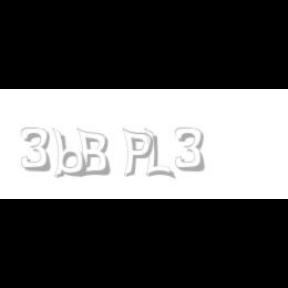3: (21, 128, 52, 172), (176, 128, 206, 172)
B: (76, 128, 110, 178)
L: (144, 128, 172, 180)
P: (121, 128, 153, 178)
b: (52, 128, 90, 178)
